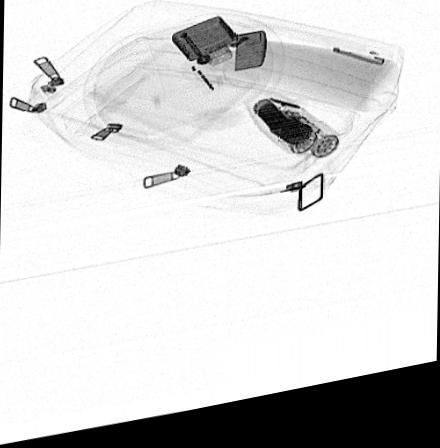Lighter: (170, 24, 267, 82)
